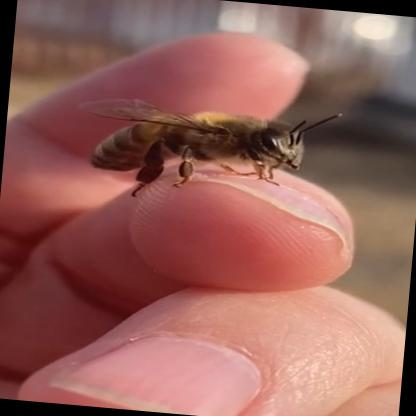bee: (71, 38, 362, 206)
